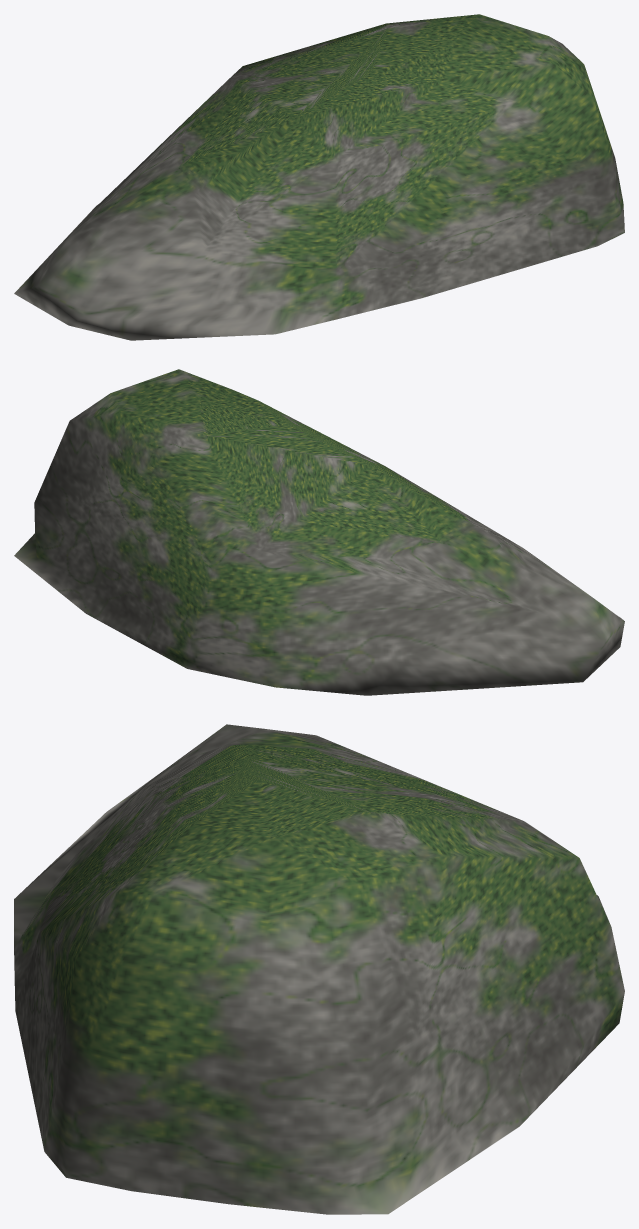
File: rock_forest_mossy_b_lod2.glb
The picture shows the model from 3 angles, top to bottom: view 1: azimuth 30°, elevation 25°; view 2: azimuth 150°, elevation 25°; view 3: azimuth 270°, elevation 25°; orthographic projection. The views are drawn at different scales.
Visible parts, largest first — view 1: rock_forest_mossy_b; view 2: rock_forest_mossy_b; view 3: rock_forest_mossy_b.
Boxes of the visible parts, bbox=[...] form: rock_forest_mossy_b: bbox=[14, 14, 624, 340]; rock_forest_mossy_b: bbox=[14, 369, 624, 695]; rock_forest_mossy_b: bbox=[14, 724, 624, 1214].
Bounding box in the file's own units: 2.35 × 0.6578 × 1.4.
1 material, 1 textured.
